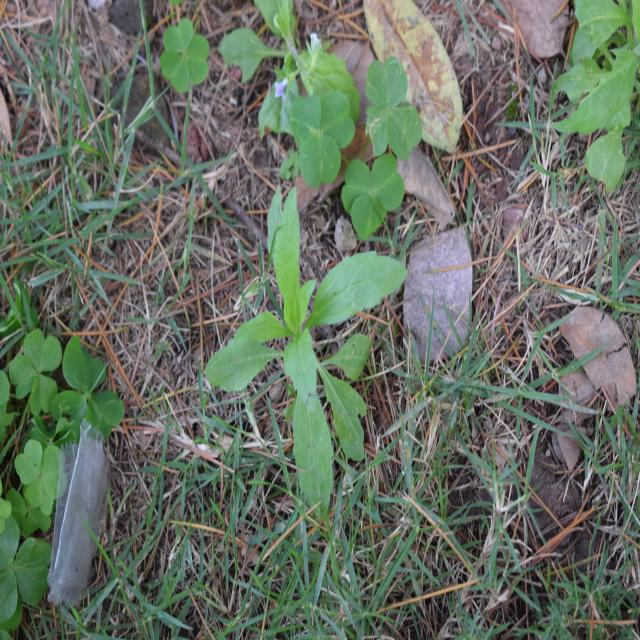horseweed: (218, 205, 394, 477)
